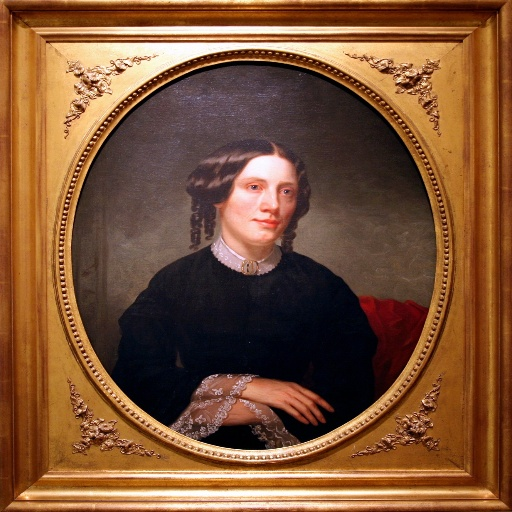hand: (235, 378, 331, 422), (193, 395, 274, 427)
